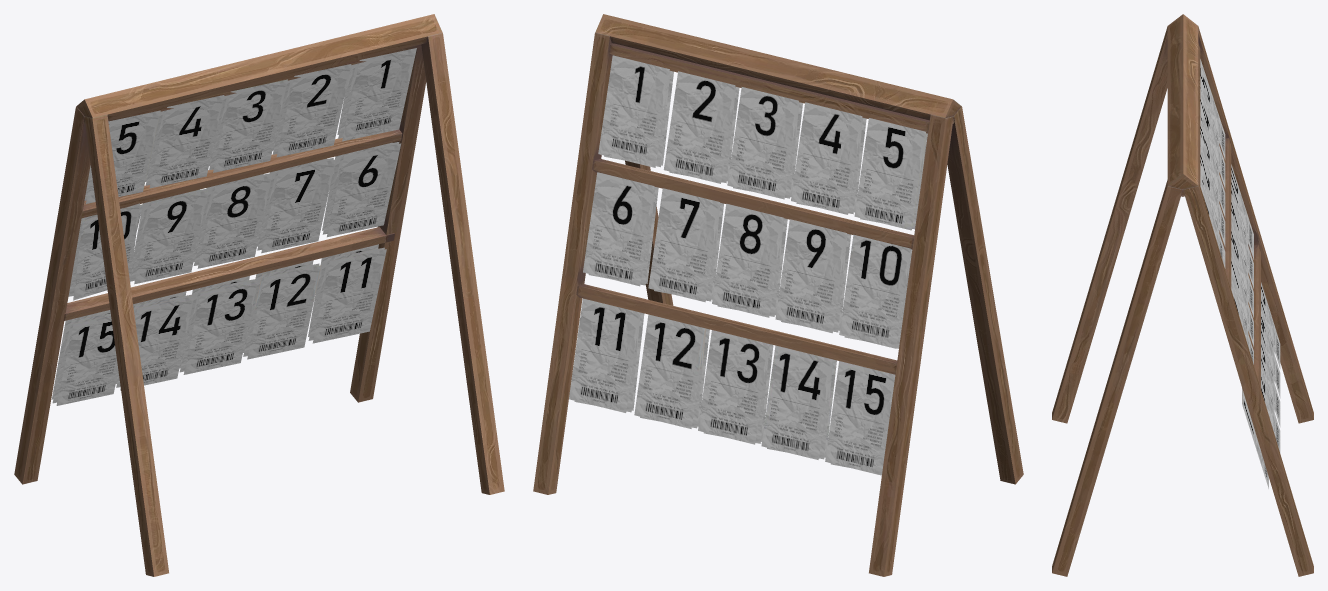
The model's file is masa numarator.fbx.
3 renders of one model, left to right at view 1: azimuth 30°, elevation 25°; view 2: azimuth 150°, elevation 25°; view 3: azimuth 270°, elevation 25°, orthographic. The views are drawn at different scales.
Parts seen in each view (by area): view 1: sehba; view 2: sehba; view 3: sehba.
Boxes of the visible parts, box(x1,y1,x2,y2) form: sehba: box(14, 14, 504, 576); sehba: box(533, 14, 1023, 576); sehba: box(1052, 14, 1313, 576).
Bounding box in the file's own units: 67.11 × 78.69 × 46.37.
